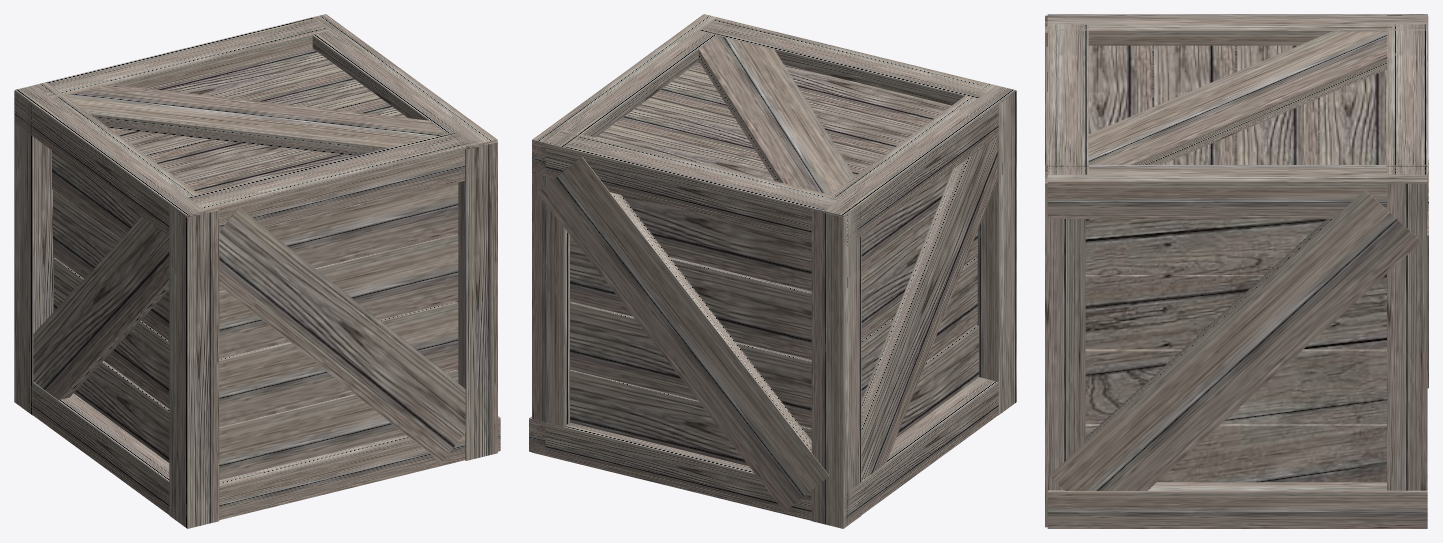
File: LVL_Box.fbx
3 renders of one model, left to right at view 1: azimuth 30°, elevation 25°; view 2: azimuth 150°, elevation 25°; view 3: azimuth 270°, elevation 25°, orthographic. The views are drawn at different scales.
Visible parts, largest first — view 1: Box; view 2: Box; view 3: Box.
Part boxes in pixels (box(x1,y1,x2,y2)): Box: box(14, 14, 500, 528); Box: box(529, 14, 1016, 528); Box: box(1045, 14, 1428, 528).
Bounding box in the file's own units: 28.02 × 26.63 × 26.79.
1 material, 1 textured.
